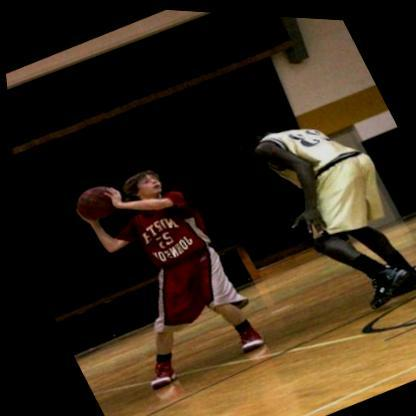basketball: (67, 175, 124, 225)
